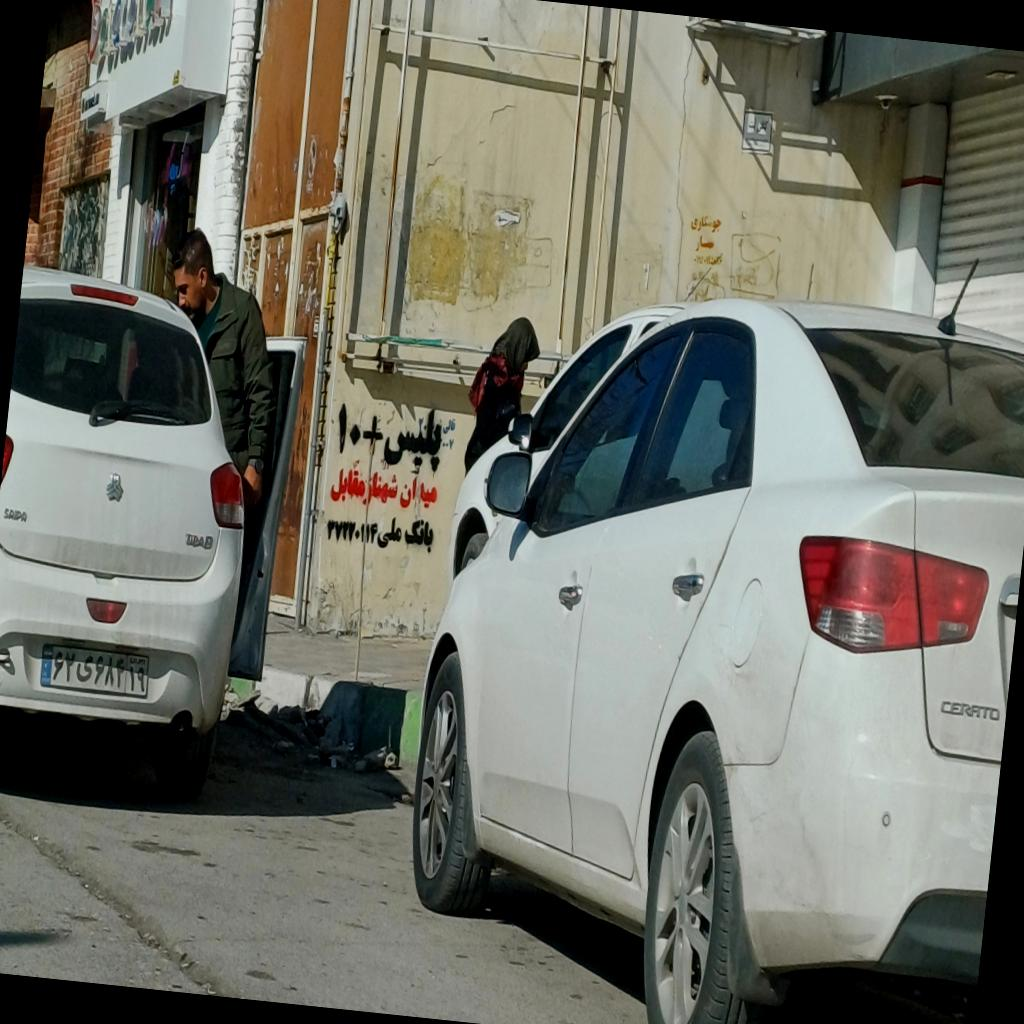Plates: (39, 642, 151, 696)
